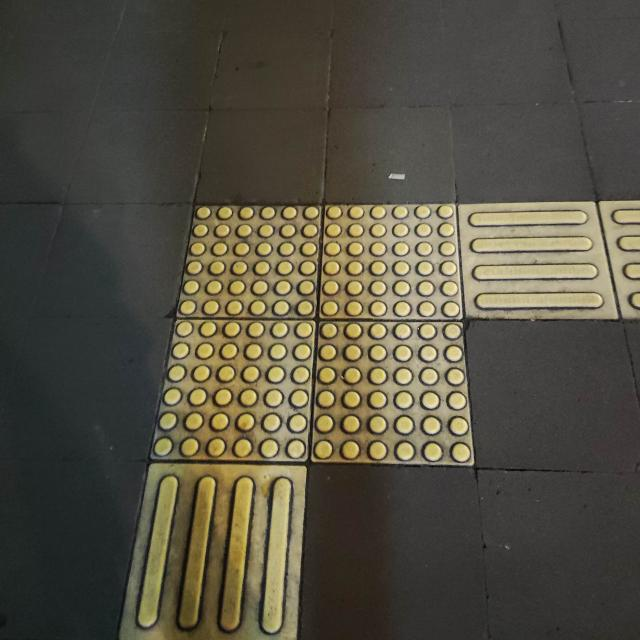kanan: (90, 152, 640, 554)
